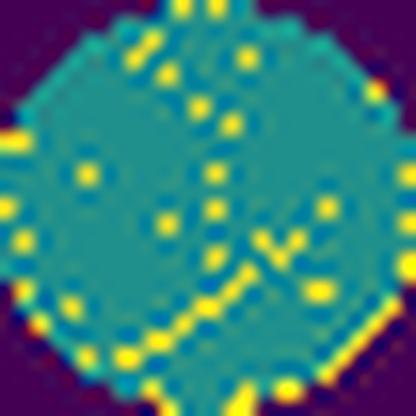Scratch: (112, 266, 262, 374)
